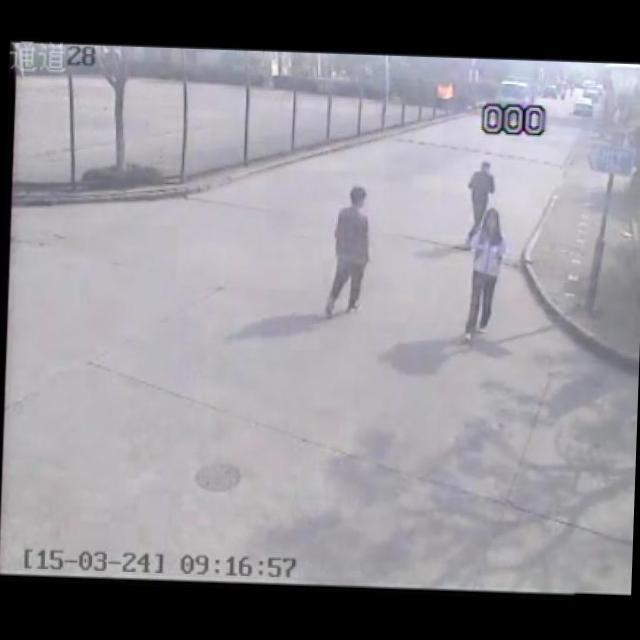person: (452, 193, 530, 342), (314, 165, 381, 337), (443, 143, 496, 253)
